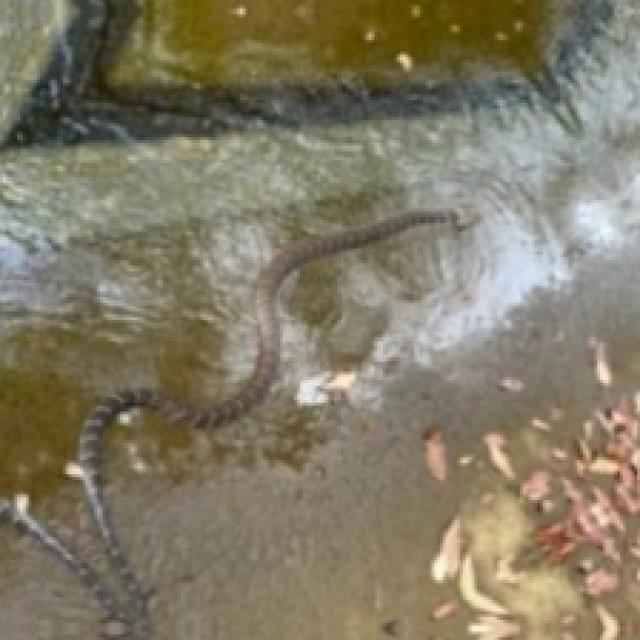king cobra: (0, 209, 477, 637)
